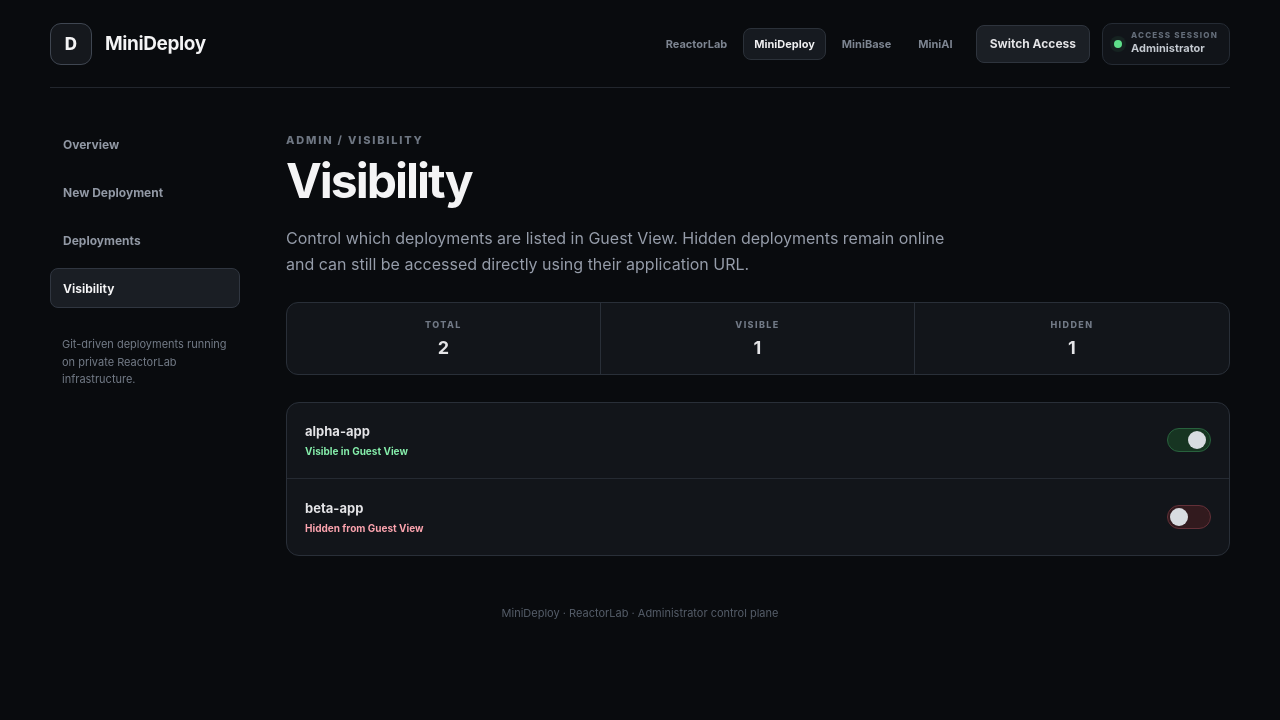
Test: MiniDeploy Guest View visibility › reverts the switch and shows a concise error when saving fails
Click the switch named "List beta-app in Guest View" at (1189, 517), box x1=1167 y1=505 x2=1211 y2=529
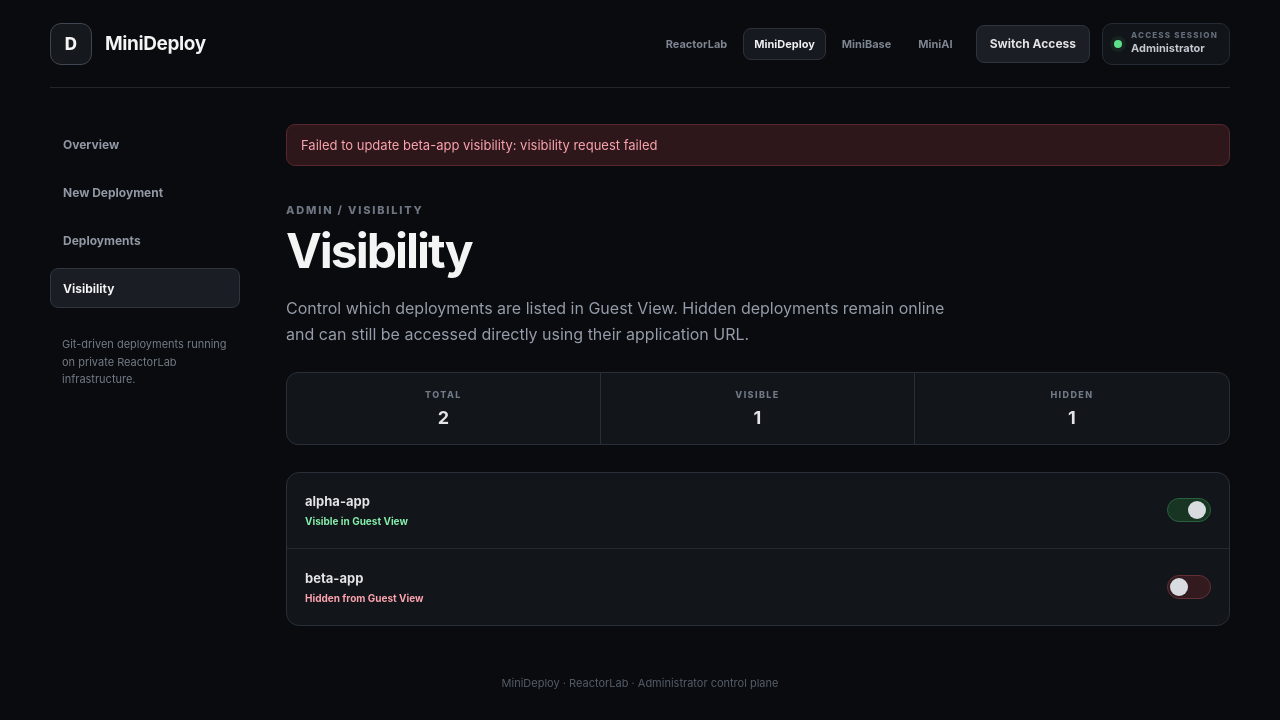
Expected: the switch named "List beta-app in Guest View" is enabled, x1=1167 y1=575 x2=1211 y2=599
Expected: the text "Failed to update beta-app visibility: visibility request failed" is shown, x1=286 y1=124 x2=1230 y2=166
